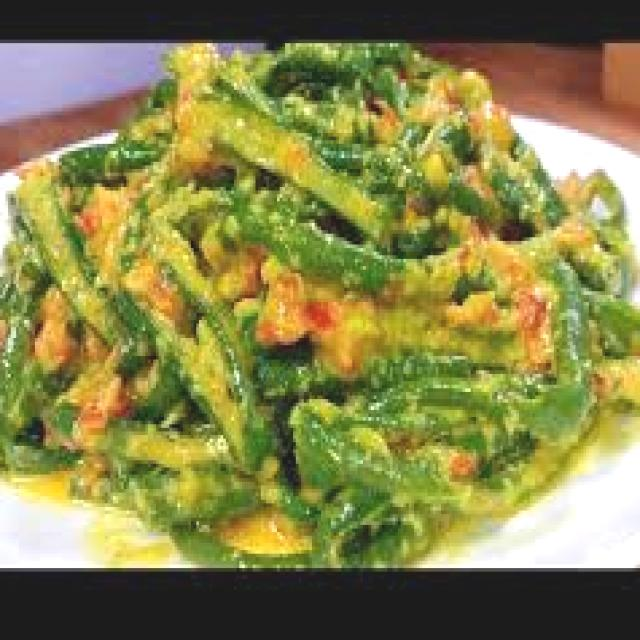kacang_panjang: (0, 36, 640, 561)
